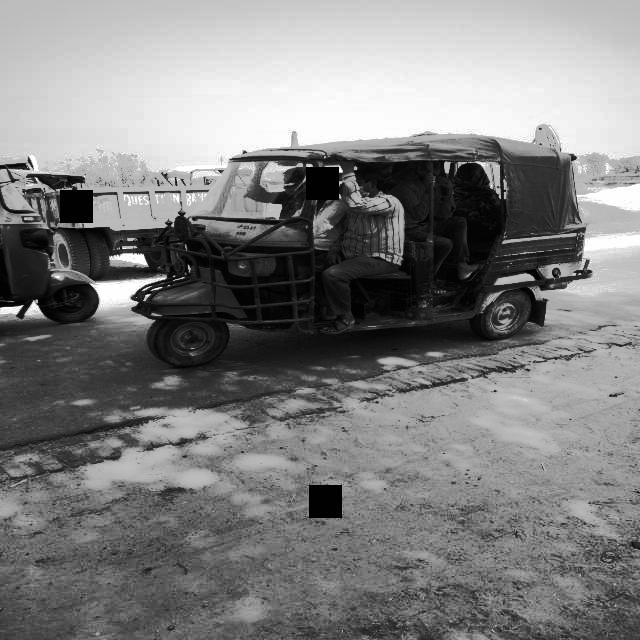Auto-Rickshaw: (121, 134, 593, 376), (2, 166, 102, 338)
